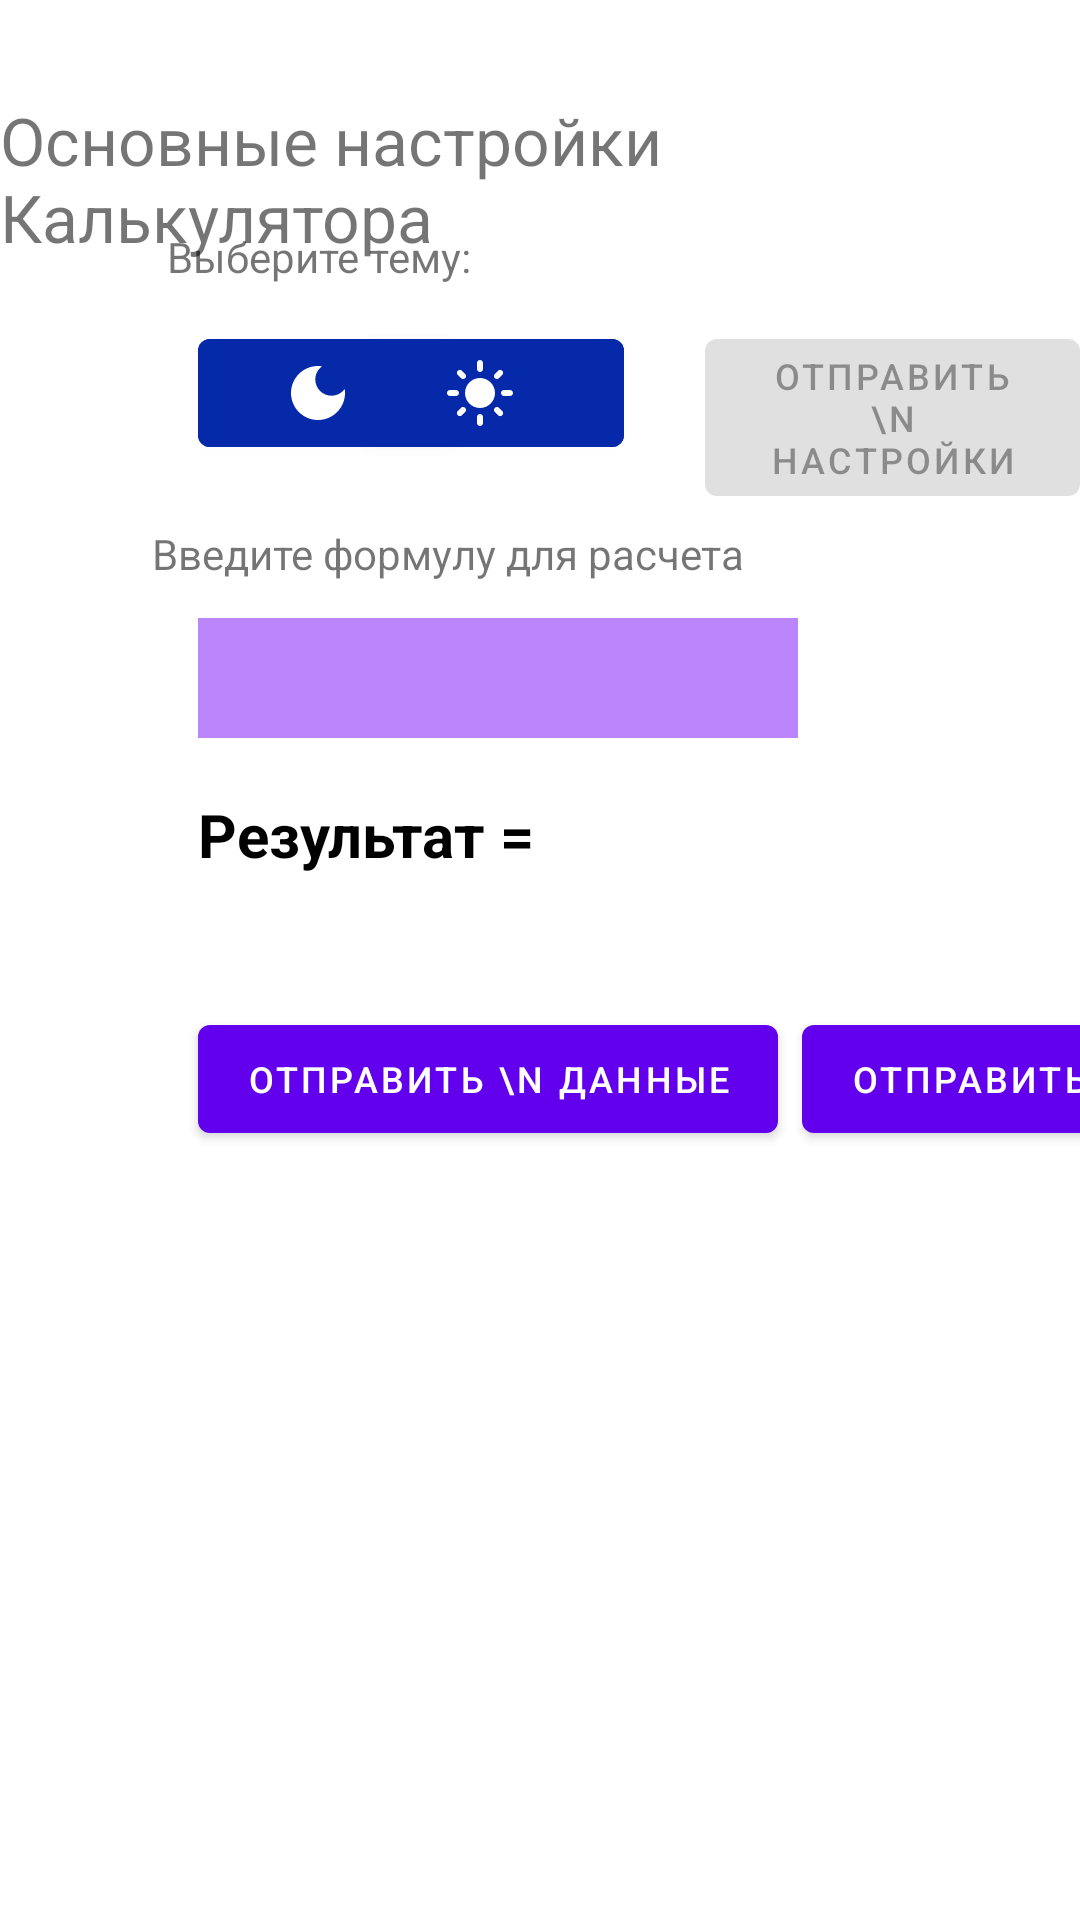

Named icons in this screenshot (1080*1920) and their centers, point (x, y):
mode: point (492, 393)
mode enable: point (330, 393)
